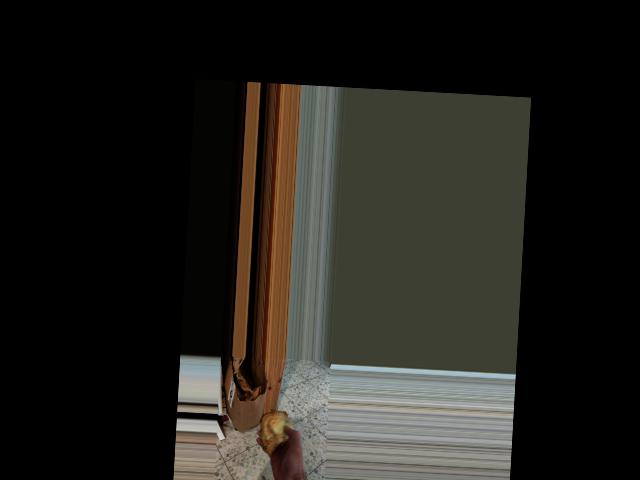onion: (258, 407, 295, 457)
